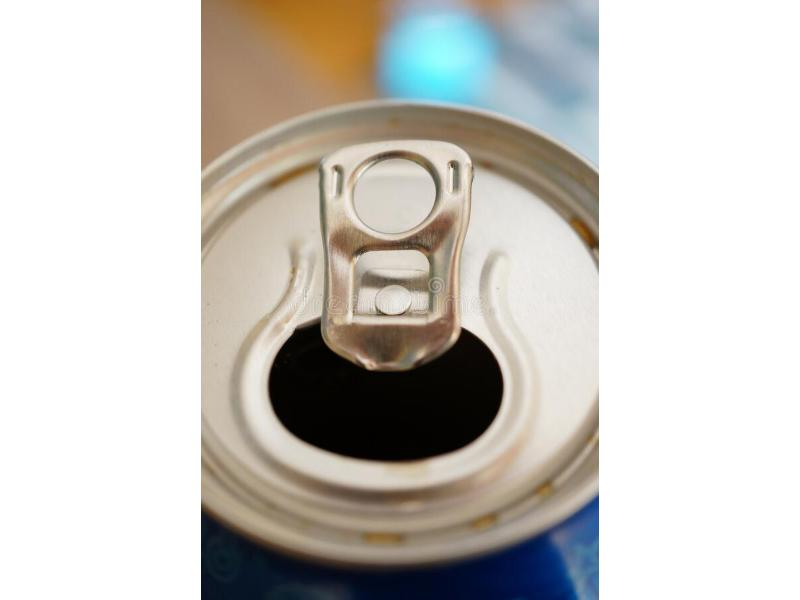can: (199, 92, 601, 600)
